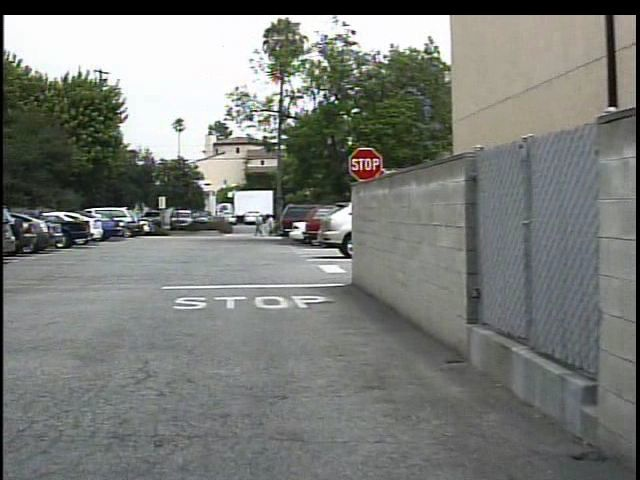person: (246, 214, 260, 240), (258, 213, 271, 239)
